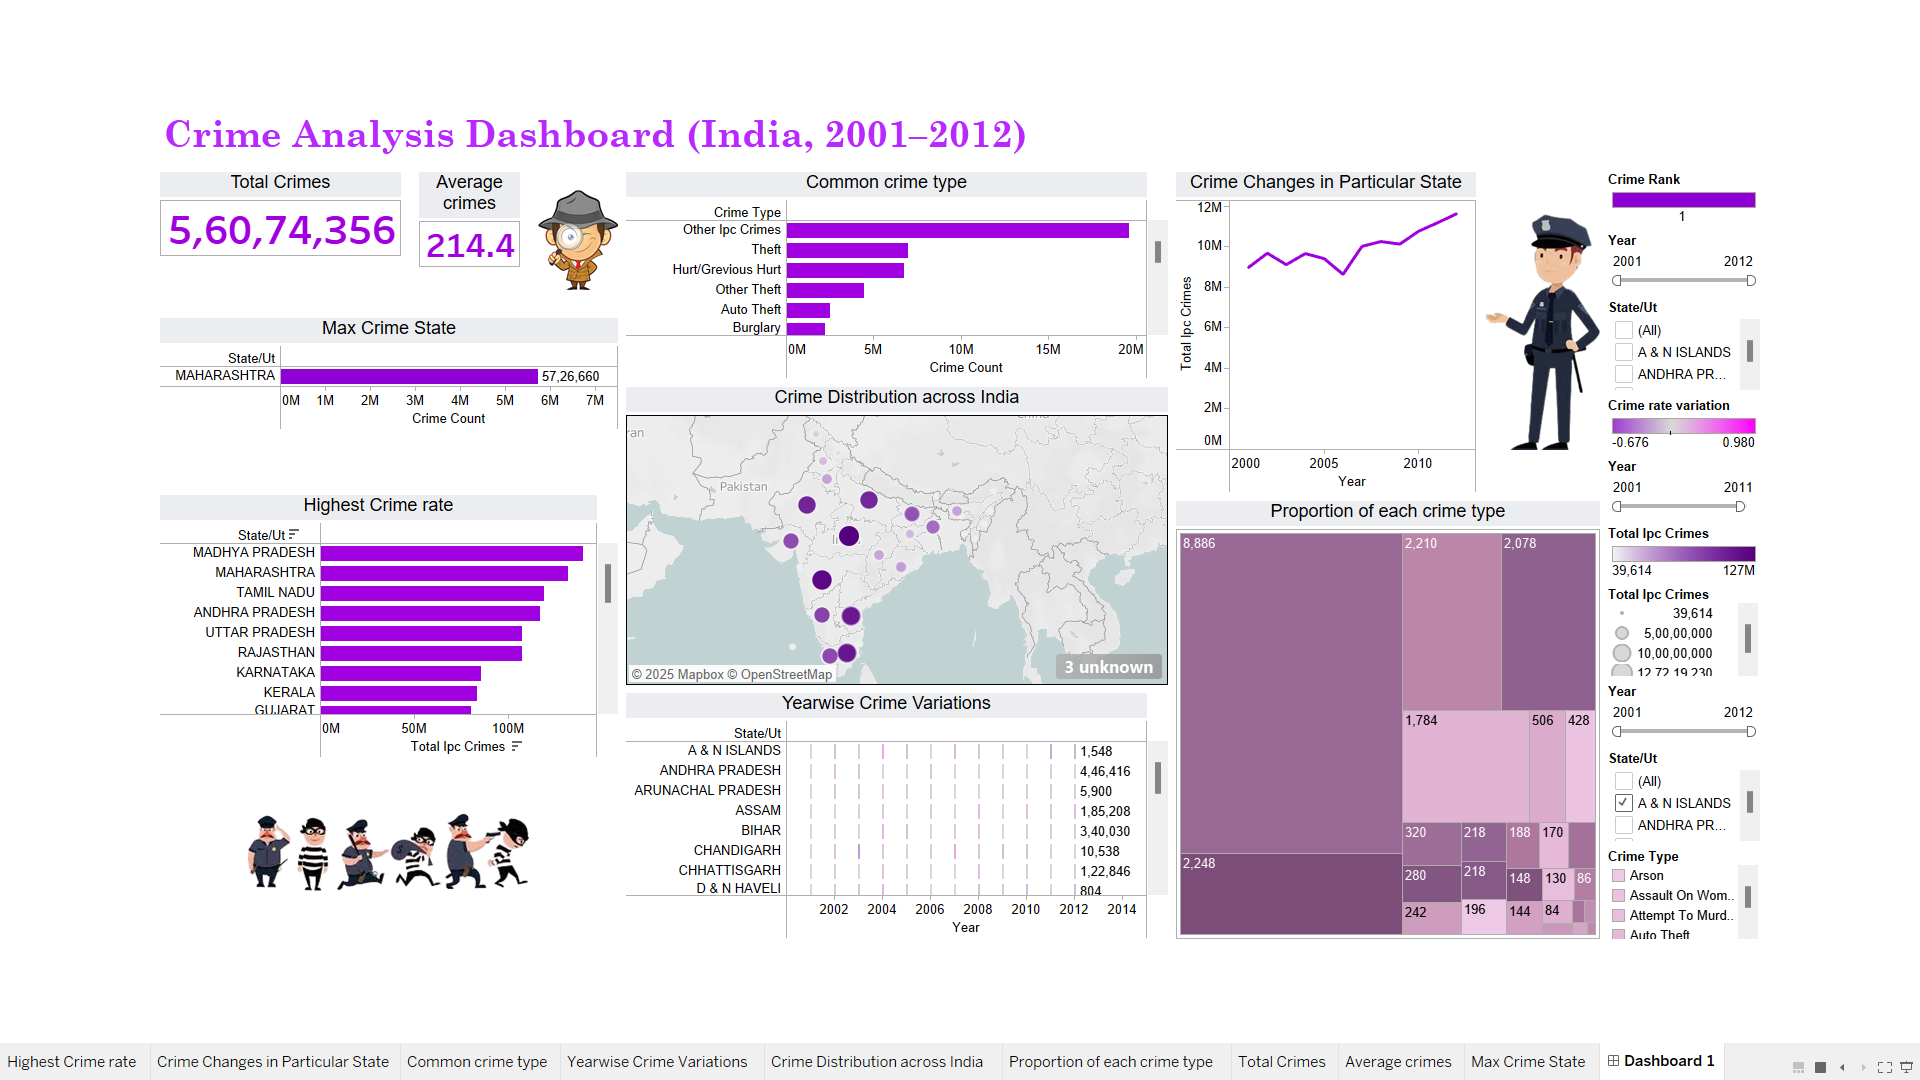

Layout of this report page (visuals, bound fields, positions):
{"tool":"tableau","page":{"name":"Dashboard 1","canvas":[1624,860],"ordinal":0},"visuals":[{"type":"title","box":[8,8,1608,69]},{"type":"worksheet","title":"Total Crimes","mark":"Automatic","box":[8,77,259,146]},{"type":"worksheet","title":"Average crimes","mark":"Automatic","box":[267,77,119.5,146]},{"type":"image","box":[386.5,77,87.5,146]},{"type":"worksheet","title":"Common crime type","mark":"Automatic","rows":["Pivot Field Names"],"cols":["Pivot Field Values"],"box":[474,77,550,215.4]},{"type":"worksheet","title":"Crime Changes in Particular State","mark":"Line","rows":["TOTAL IPC CRIMES"],"cols":["YEAR"],"box":[1024,77,308,328.6]},{"type":"image","param":"C:/Users/monik/Downloads/images-removebg-preview.png","box":[1332,77,124,328.6]},{"type":"legend","title":"Max Crime State","param":"[federated.1hrt7cz1hbllti15djo390snz72e].[usr:Calculation_1973984019062300673:qk","box":[1456,77,160,61]},{"type":"filter","title":"Highest Crime rate","param":"[federated.1hrt7cz1hbllti15djo390snz72e].[none:YEAR:qk]","box":[1456,138,160,67]},{"type":"filter","title":"Crime Changes in Particular State","param":"[federated.1hrt7cz1hbllti15djo390snz72e].[none:STATE/UT:nk]","box":[1456,205,160,97.8]},{"type":"worksheet","title":"Max Crime State","mark":"Automatic","rows":["STATE/UT"],"cols":["Pivot Field Values"],"box":[8,223,466,177]},{"type":"worksheet","title":"Crime Distribution across India","mark":"Automatic","box":[474,292.4,550,305.8]},{"type":"legend","title":"Yearwise Crime Variations","param":"[federated.1hrt7cz1hbllti15djo390snz72e].[usr:Calculation_1973984019054170112:qk","box":[1456,302.7,160,61]},{"type":"filter","title":"Crime Distribution across India","param":"[federated.1hrt7cz1hbllti15djo390snz72e].[none:YEAR:qk]","box":[1456,363.7,160,67]},{"type":"worksheet","title":"Highest Crime rate","mark":"Automatic","rows":["STATE/UT"],"cols":["TOTAL IPC CRIMES"],"box":[8,400,466,271]},{"type":"worksheet","title":"Proportion of each crime type","mark":"Automatic","box":[1024,405.6,432,446.4]},{"type":"legend","title":"Crime Distribution across India","param":"[federated.1hrt7cz1hbllti15djo390snz72e].[sum:TOTAL IPC CRIMES:qk]","box":[1456,430.7,160,61]},{"type":"legend","title":"Crime Distribution across India","param":"[federated.1hrt7cz1hbllti15djo390snz72e].[sum:TOTAL IPC CRIMES:qk]","box":[1456,491.7,160,97.8]},{"type":"filter","title":"Proportion of each crime type","param":"[federated.1hrt7cz1hbllti15djo390snz72e].[none:YEAR:qk]","box":[1456,589.5,160,67]},{"type":"worksheet","title":"Yearwise Crime Variations","mark":"GanttBar","rows":["STATE/UT"],"cols":["YEAR"],"box":[474,598.2,550,253.8]},{"type":"filter","title":"Proportion of each crime type","param":"[federated.1hrt7cz1hbllti15djo390snz72e].[none:STATE/UT:nk]","box":[1456,656.5,160,97.8]},{"type":"image","param":"C:/Users/monik/Downloads/crime_dmbi_2-removebg-preview.png","box":[8,671,466,181]},{"type":"legend","title":"Proportion of each crime type","param":"[federated.1hrt7cz1hbllti15djo390snz72e].[none:Pivot Field Names:nk]","box":[1456,754.2,160,97.8]}]}

Visuals, with their boxes on the page's 1624x860 design canvas (x1, y1, x2, y2). These are canvas units, not pixel positions in the 1920x1080 screenshot, which may show the page scaled, cropped or inside an application window:
title: box=[8, 8, 1616, 77]
"Total Crimes" worksheet: box=[8, 77, 267, 223]
"Average crimes" worksheet: box=[267, 77, 386, 223]
image: box=[386, 77, 474, 223]
"Common crime type" worksheet: box=[474, 77, 1024, 292]
"Crime Changes in Particular State" worksheet (Line marks): box=[1024, 77, 1332, 406]
image: box=[1332, 77, 1456, 406]
"Max Crime State" legend: box=[1456, 77, 1616, 138]
"Highest Crime rate" filter: box=[1456, 138, 1616, 205]
"Crime Changes in Particular State" filter: box=[1456, 205, 1616, 303]
"Max Crime State" worksheet: box=[8, 223, 474, 400]
"Crime Distribution across India" worksheet: box=[474, 292, 1024, 598]
"Yearwise Crime Variations" legend: box=[1456, 303, 1616, 364]
"Crime Distribution across India" filter: box=[1456, 364, 1616, 431]
"Highest Crime rate" worksheet: box=[8, 400, 474, 671]
"Proportion of each crime type" worksheet: box=[1024, 406, 1456, 852]
"Crime Distribution across India" legend: box=[1456, 431, 1616, 492]
"Crime Distribution across India" legend: box=[1456, 492, 1616, 590]
"Proportion of each crime type" filter: box=[1456, 590, 1616, 656]
"Yearwise Crime Variations" worksheet (GanttBar marks): box=[474, 598, 1024, 852]
"Proportion of each crime type" filter: box=[1456, 656, 1616, 754]
image: box=[8, 671, 474, 852]
"Proportion of each crime type" legend: box=[1456, 754, 1616, 852]
